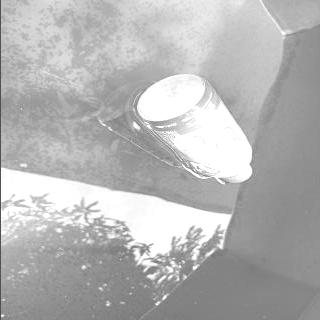bottle: (135, 74, 254, 184)
